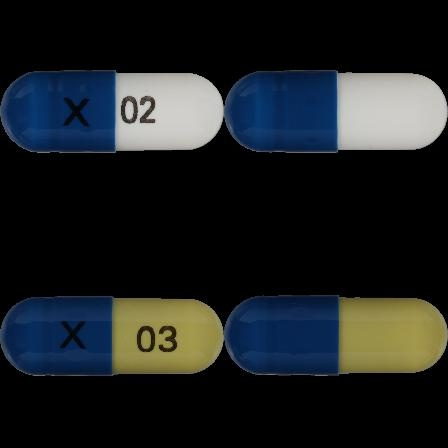57237-018: (0, 0, 224, 224)
